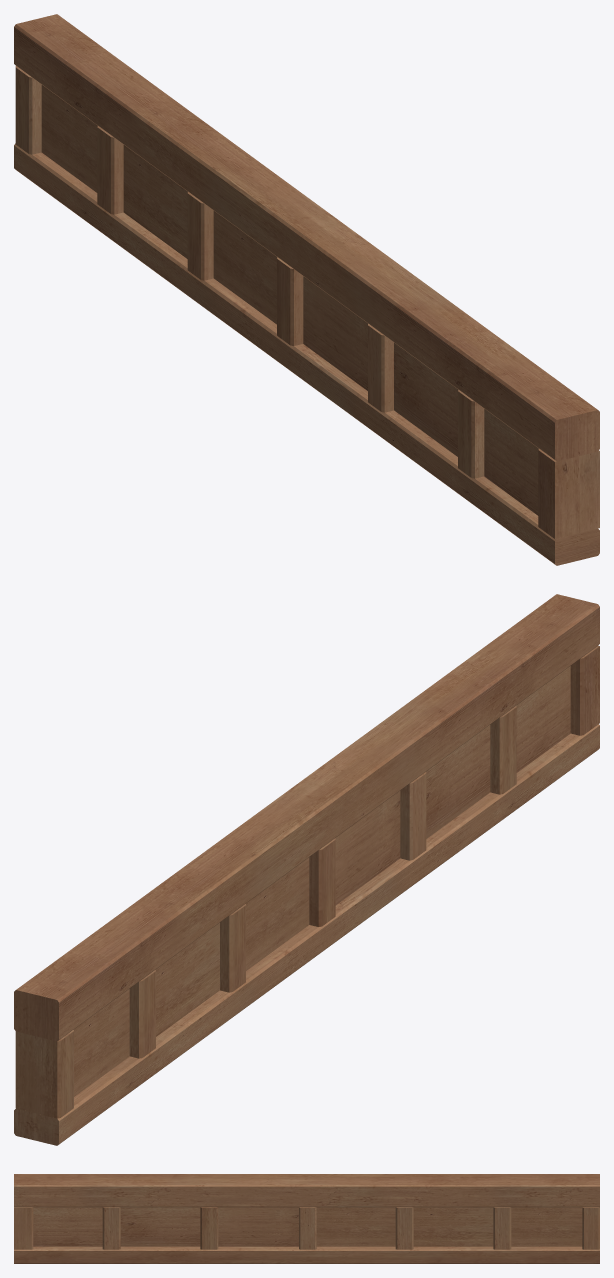
The model's file is SM_JSH_WoodframeA.fbx.
The picture shows the model from 3 angles, top to bottom: view 1: azimuth 30°, elevation 25°; view 2: azimuth 150°, elevation 25°; view 3: azimuth 270°, elevation 25°; orthographic projection. The views are drawn at different scales.
Visible parts, largest first — view 1: SM_JSH_WoodframeA; view 2: SM_JSH_WoodframeA; view 3: SM_JSH_WoodframeA.
Part boxes in pixels (x1=…): SM_JSH_WoodframeA: x1=14, y1=14, x2=599, y2=565; SM_JSH_WoodframeA: x1=14, y1=594, x2=599, y2=1145; SM_JSH_WoodframeA: x1=14, y1=1174, x2=599, y2=1263.
Size of the model in its own units: 11.78 by 245 by 36.43.
1 material, 1 textured.
